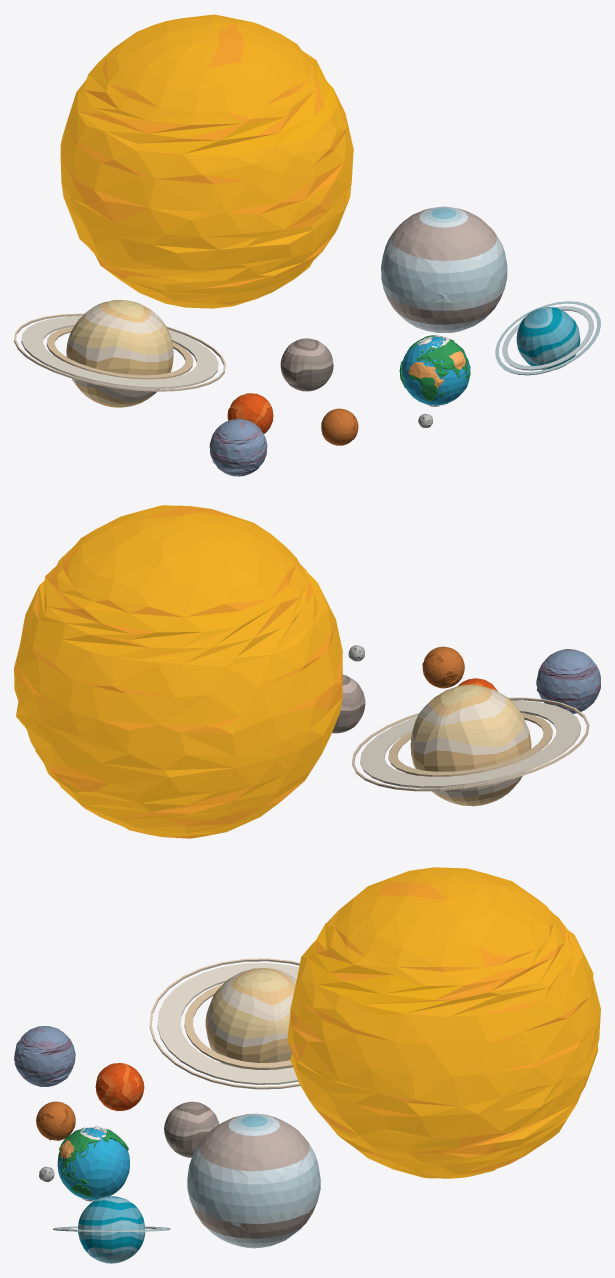
The model's file is evironment_pack_planets.glb.
3 views of the same model, one above another, from view 1: azimuth 30°, elevation 25°; view 2: azimuth 150°, elevation 25°; view 3: azimuth 270°, elevation 25° (orthographic). The views are drawn at different scales.
Visible parts, largest first — view 1: SM_Sun, SM_Sarurn, SM_Jupiter, SM_Uranus, SM_Earth, SM_Neptune, SM_Venus, SM_Mars, SM_Mercury; view 2: SM_Sun, SM_Sarurn, SM_Neptune, SM_Mercury, SM_Venus; view 3: SM_Sun, SM_Sarurn, SM_Jupiter, SM_Earth, SM_Uranus, SM_Neptune, SM_Venus, SM_Mars, SM_Mercury.
Part boxes in pixels (<box>): SM_Sun: <box>60,14,353,308</box>; SM_Sarurn: <box>14,300,225,407</box>; SM_Jupiter: <box>381,206,507,332</box>; SM_Uranus: <box>495,301,600,375</box>; SM_Earth: <box>399,335,470,406</box>; SM_Neptune: <box>209,418,267,476</box>; SM_Venus: <box>280,338,333,391</box>; SM_Mars: <box>227,393,273,433</box>; SM_Mercury: <box>321,408,358,445</box>; SM_Sun: <box>14,505,342,838</box>; SM_Sarurn: <box>352,685,589,806</box>; SM_Neptune: <box>536,649,600,713</box>; SM_Mercury: <box>422,646,464,688</box>; SM_Venus: <box>332,674,365,733</box>; SM_Sun: <box>287,867,600,1178</box>; SM_Sarurn: <box>149,958,300,1089</box>; SM_Jupiter: <box>187,1113,320,1248</box>; SM_Earth: <box>57,1126,129,1201</box>; SM_Uranus: <box>53,1196,170,1263</box>; SM_Neptune: <box>14,1026,75,1086</box>; SM_Venus: <box>164,1101,219,1157</box>; SM_Mars: <box>95,1063,144,1111</box>; SM_Mercury: <box>36,1101,75,1140</box>.
Bounding box in the file's own units: 4.16 × 2.17 × 4.06.
2 materials, 2 textured.
